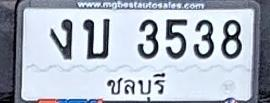3: (137, 18, 159, 61), (193, 19, 214, 61)
5: (165, 18, 188, 61)
8: (220, 19, 242, 59)
A07: (50, 18, 74, 61)
A26: (82, 18, 111, 60)
CBI: (104, 68, 169, 103)
